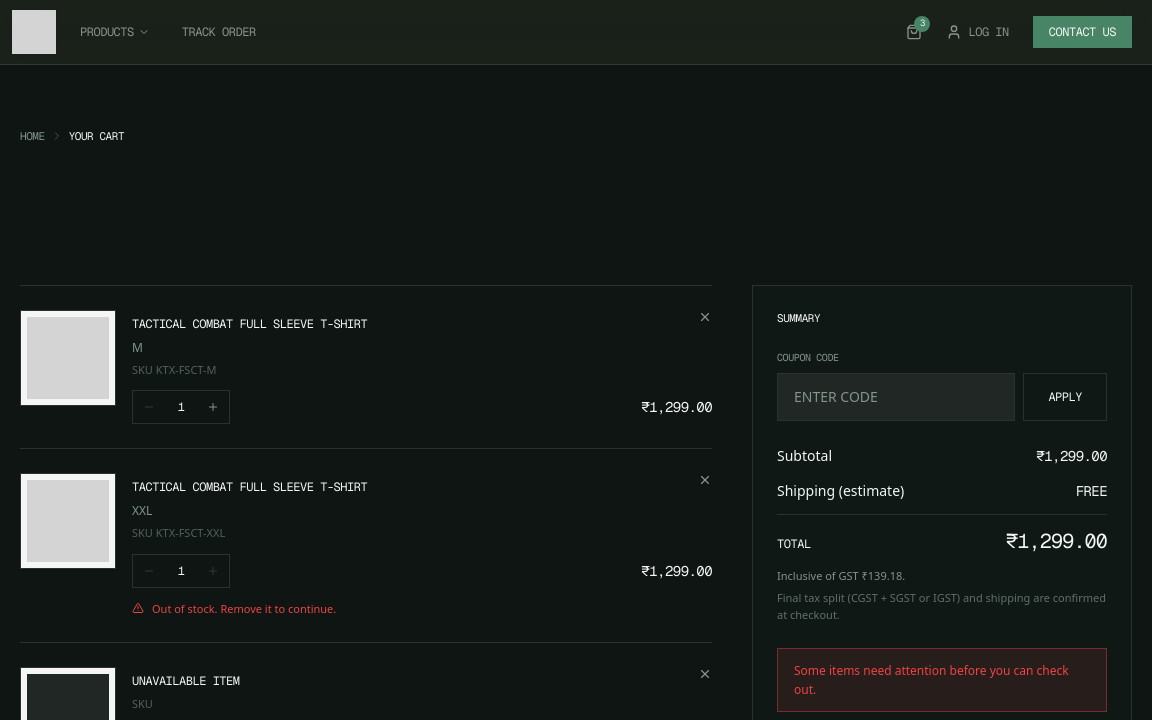
Test: /cart › shows per-line issues and blocks checkout until fixed
Expected: the text with test id "totals-subtotal" shows "1,299.00", [1036,447,1107,465]
Click the button named "Remove Tactical Combat Full Sleeve T-Shirt (XXL)" at (705, 480), box [698,473,712,487]
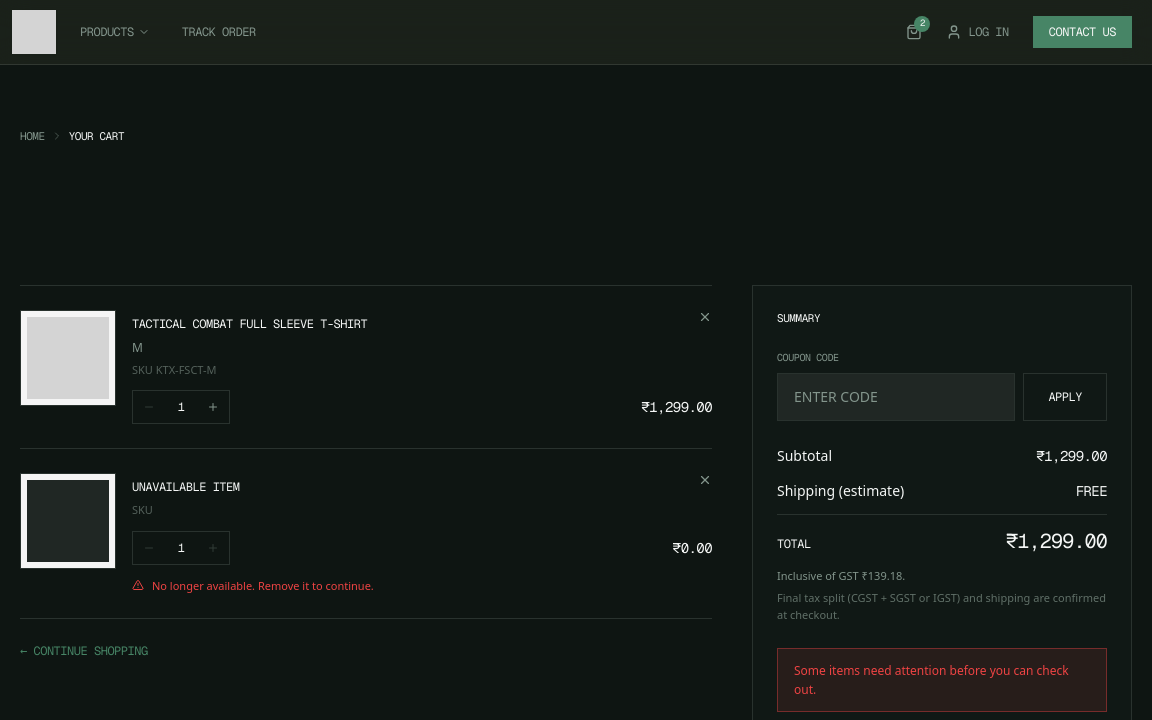
Result: the number of list items with test id "cart-line" is 2 at [20,286,712,449]; [20,449,712,620]
Click the button named "Remove Unavailable item" at (705, 480), box [698,473,712,487]
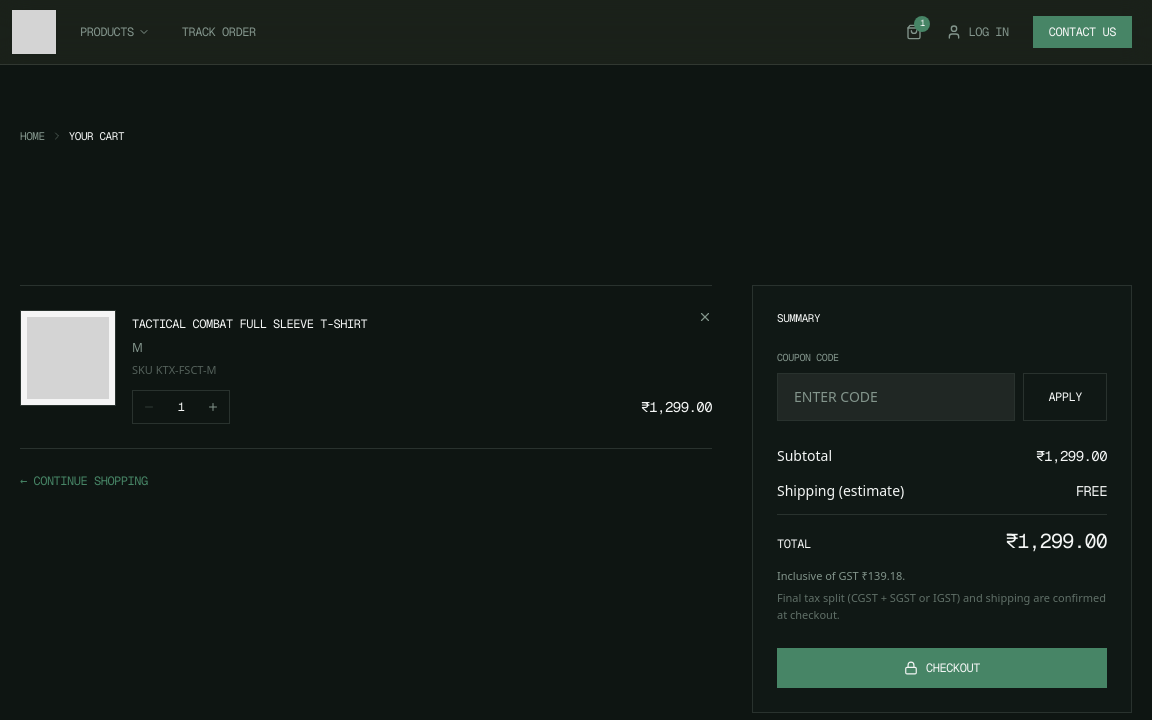
Result: the button "Checkout" is enabled at [777,648,1107,688]
